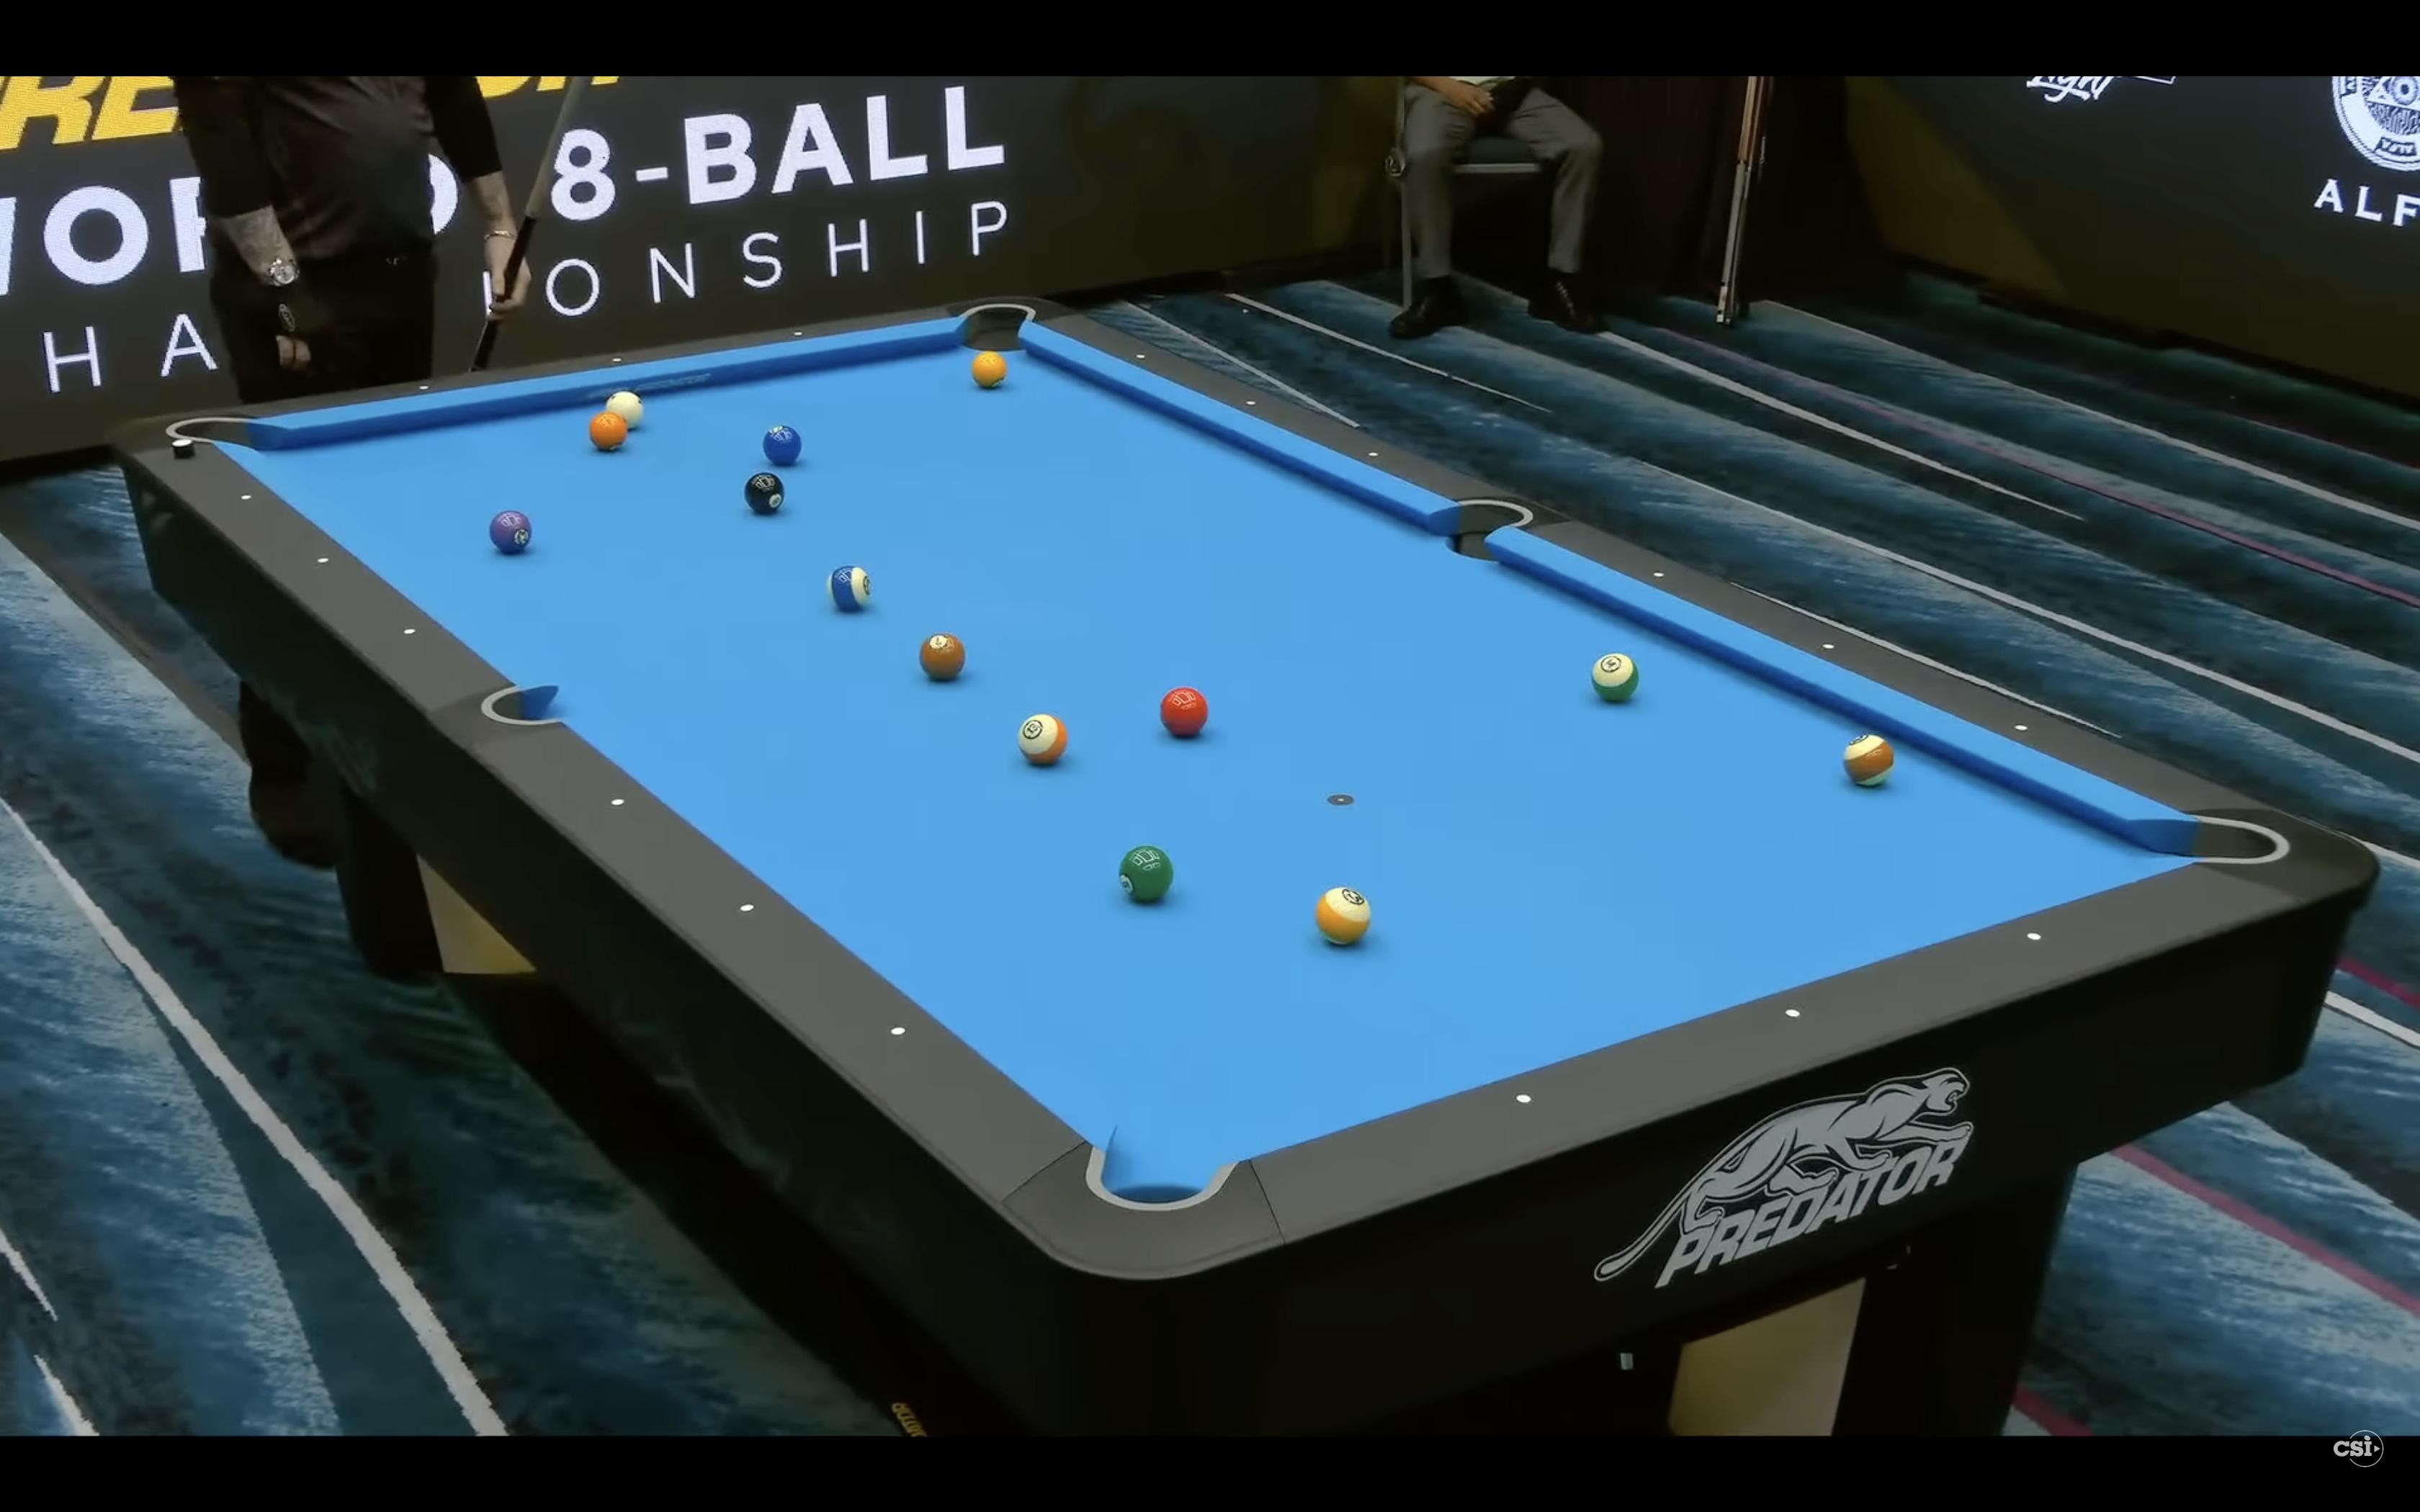Black: (746, 472, 784, 516)
Cue: (606, 392, 643, 430)
Dot: (890, 1026, 906, 1036), (739, 902, 754, 913), (1516, 1094, 1531, 1104), (1784, 1009, 1800, 1017), (612, 798, 625, 807), (2028, 932, 2042, 941), (2014, 725, 2028, 732), (317, 557, 329, 564), (240, 495, 253, 502), (402, 629, 416, 634), (1653, 571, 1664, 578), (1822, 645, 1835, 650), (418, 385, 429, 390), (793, 331, 803, 336), (1136, 354, 1146, 359), (1246, 401, 1256, 406), (613, 359, 622, 362), (1369, 453, 1378, 456)
Solid: (1120, 845, 1173, 902), (1160, 686, 1207, 737), (922, 632, 967, 679), (490, 510, 533, 554), (763, 425, 803, 465), (589, 411, 627, 451), (970, 352, 1007, 388)
Striped: (1315, 887, 1371, 946), (1017, 712, 1068, 766), (1843, 735, 1896, 786), (1592, 653, 1639, 702), (828, 564, 873, 613)
